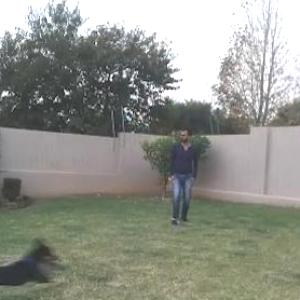follow: (168, 125, 196, 226)
